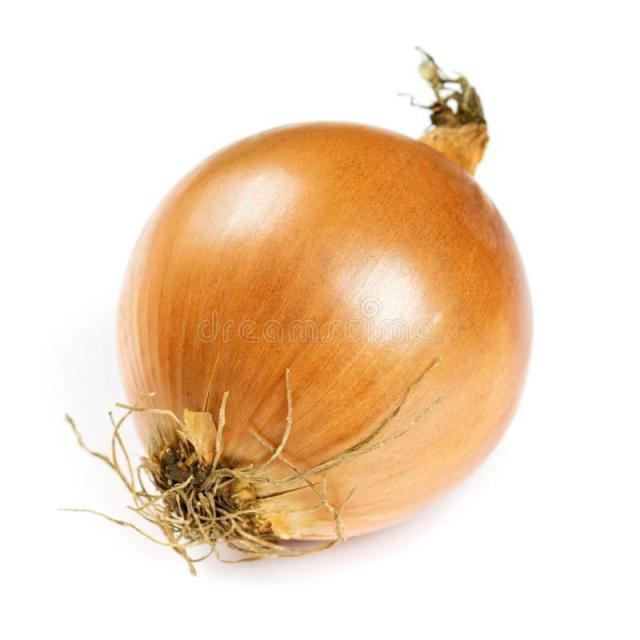Onion: (67, 41, 530, 578)
